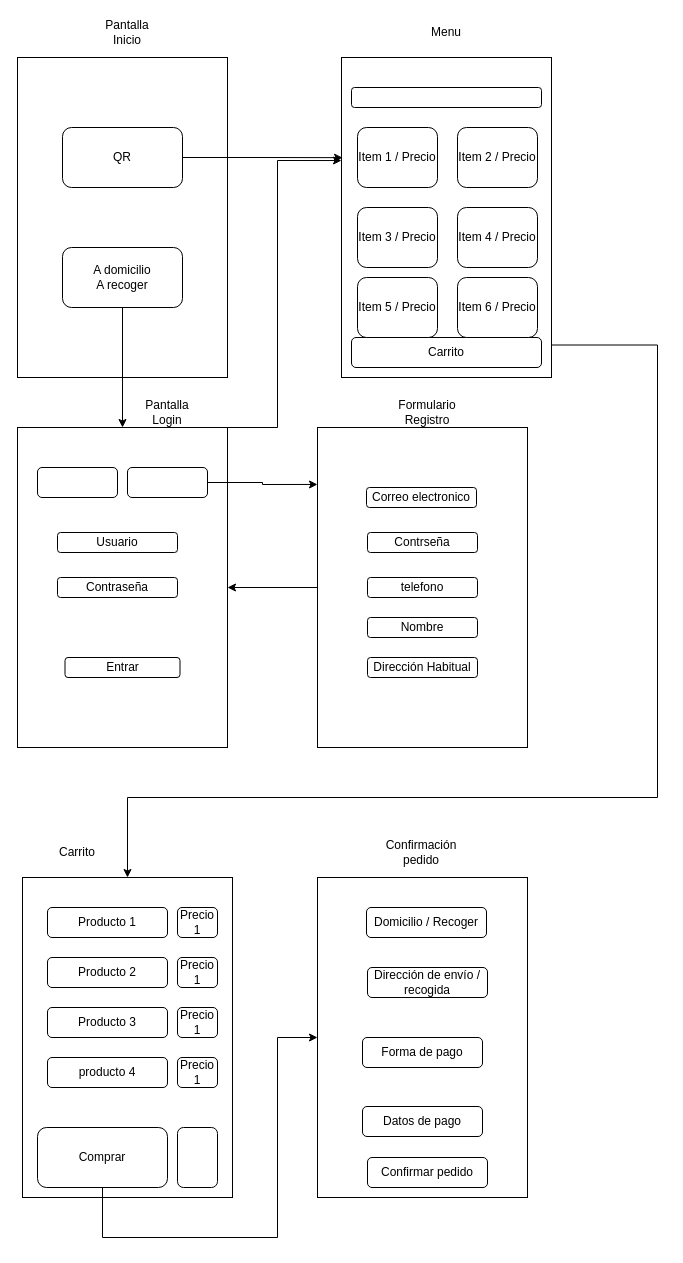
The diagram is 683 pixels wide and 1263 high, and some of its shapes have lost their labels. Each missing label, with the box of its shape:
Entrantes / Platos Psin. / postres: (350, 86, 542, 108)
Inicio sesion: (36, 466, 118, 498)
Precio: (176, 1126, 218, 1188)
Registro: (126, 466, 208, 498)
